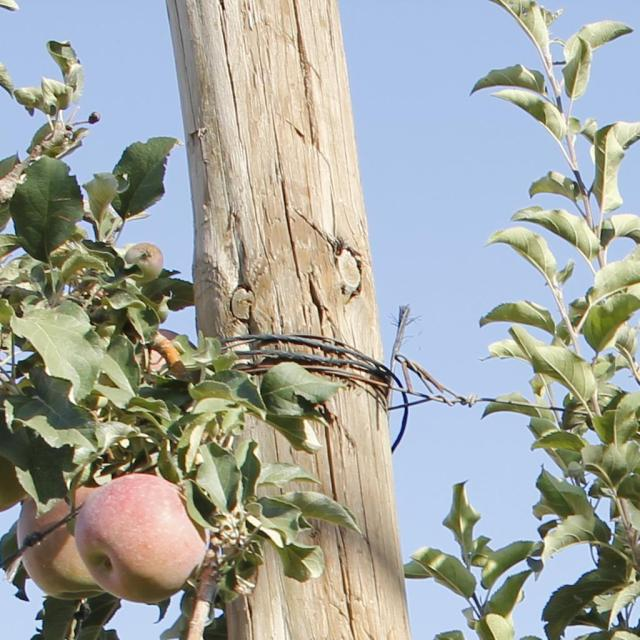100-_ripeness: (73, 472, 208, 600), (17, 484, 105, 600), (1, 389, 27, 509)
